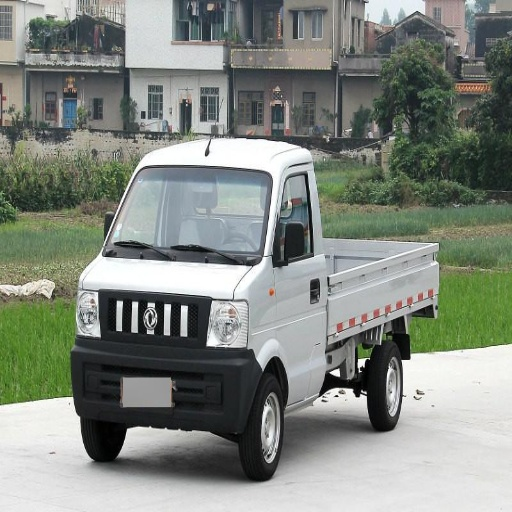front_bumper: (72, 290, 260, 425)
front_glass: (104, 168, 272, 264)
front_left_door: (272, 166, 327, 390)
trunk: (336, 263, 411, 369)
